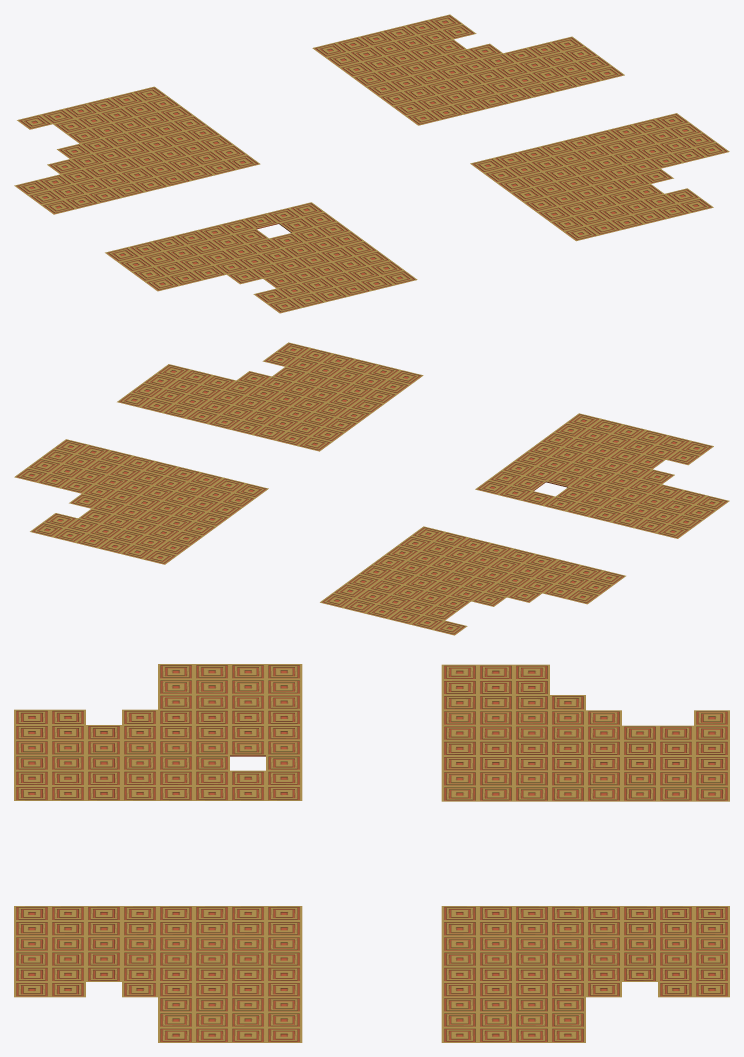
The model's file is Floor01.fbx.
3 renders of one model, top to bottom at view 1: azimuth 30°, elevation 25°; view 2: azimuth 150°, elevation 25°; view 3: azimuth 270°, elevation 25°, orthographic. The views are drawn at different scales.
Visible parts, largest first — view 1: Floor01; view 2: Floor01; view 3: Floor01.
Boxes of the visible parts, left/top/right/bottom form: Floor01: left=14, top=14, right=729, bottom=313; Floor01: left=14, top=342, right=729, bottom=635; Floor01: left=14, top=664, right=729, bottom=1042.
Size of the model in its own units: 1435 by 2.25 by 1147.
